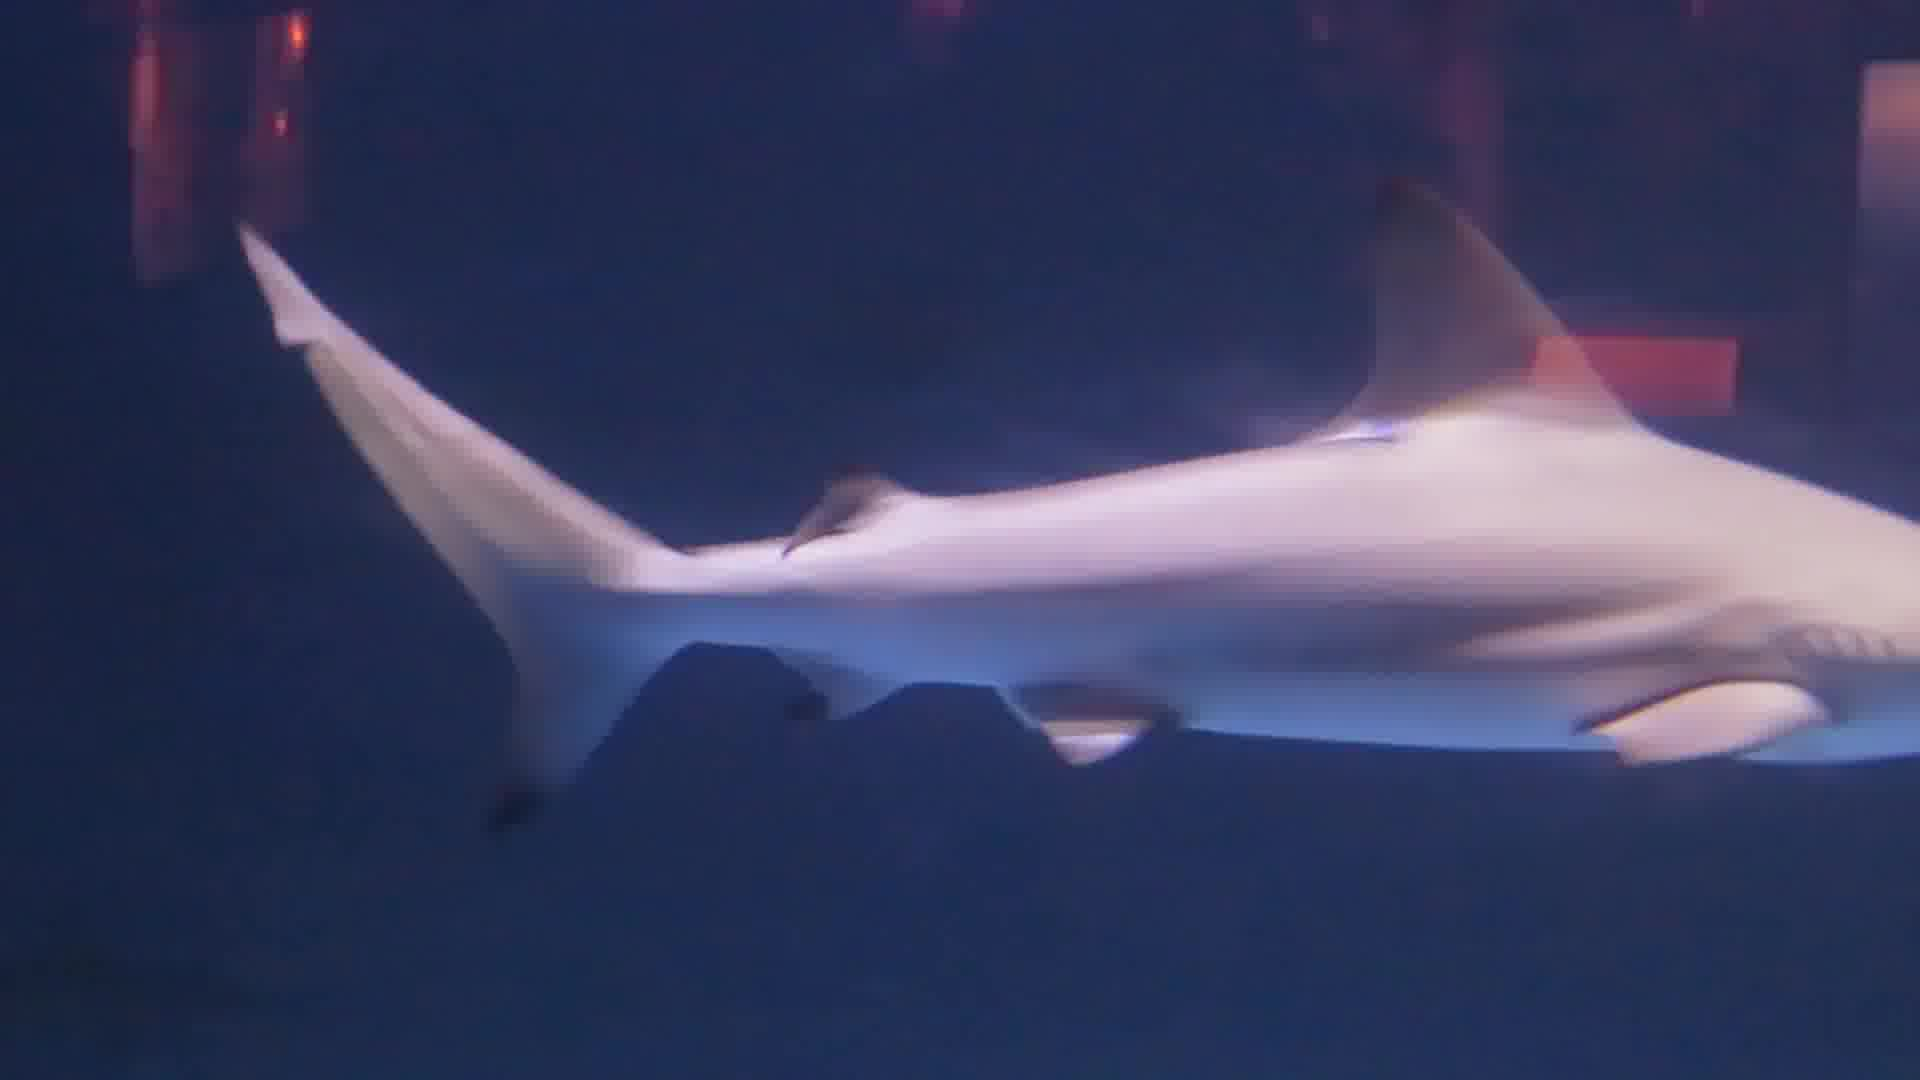Carcharhinus leucas: (295, 125, 1913, 855)
